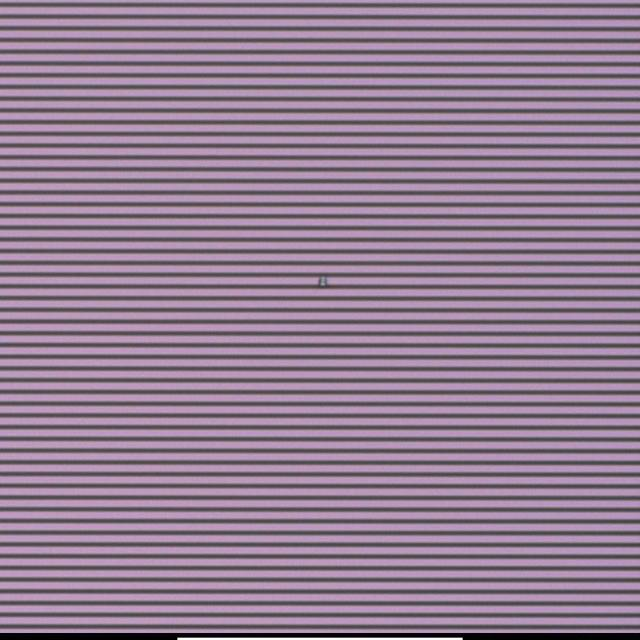03_intrusion: (318, 272, 332, 291)
